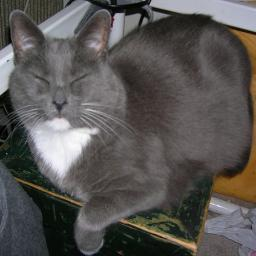catnose: (50, 99, 70, 112)
